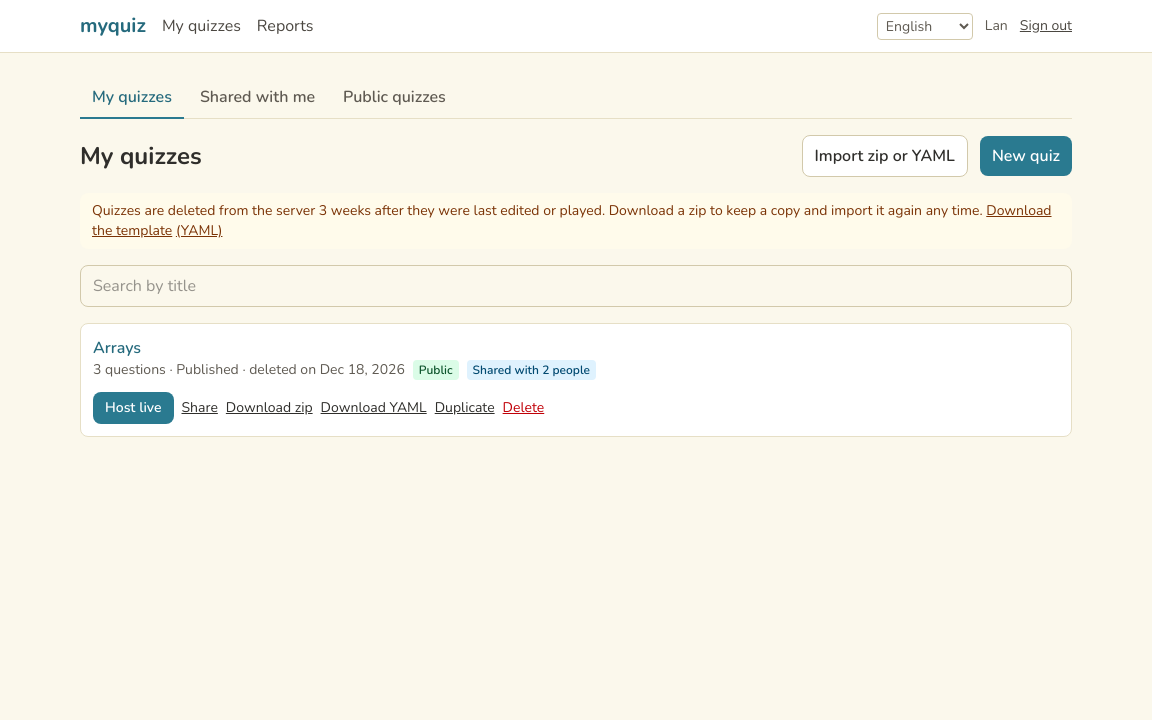
the owner shares a quiz with people and makes it private
This screenshot has width=1152, height=720.
expect the text "Public" is shown: met, box [413, 360, 459, 380]
expect the text "Shared with 2 people" is shown: met, box [467, 360, 596, 380]
Click the button "Share": (200, 408) [182, 398, 218, 418]
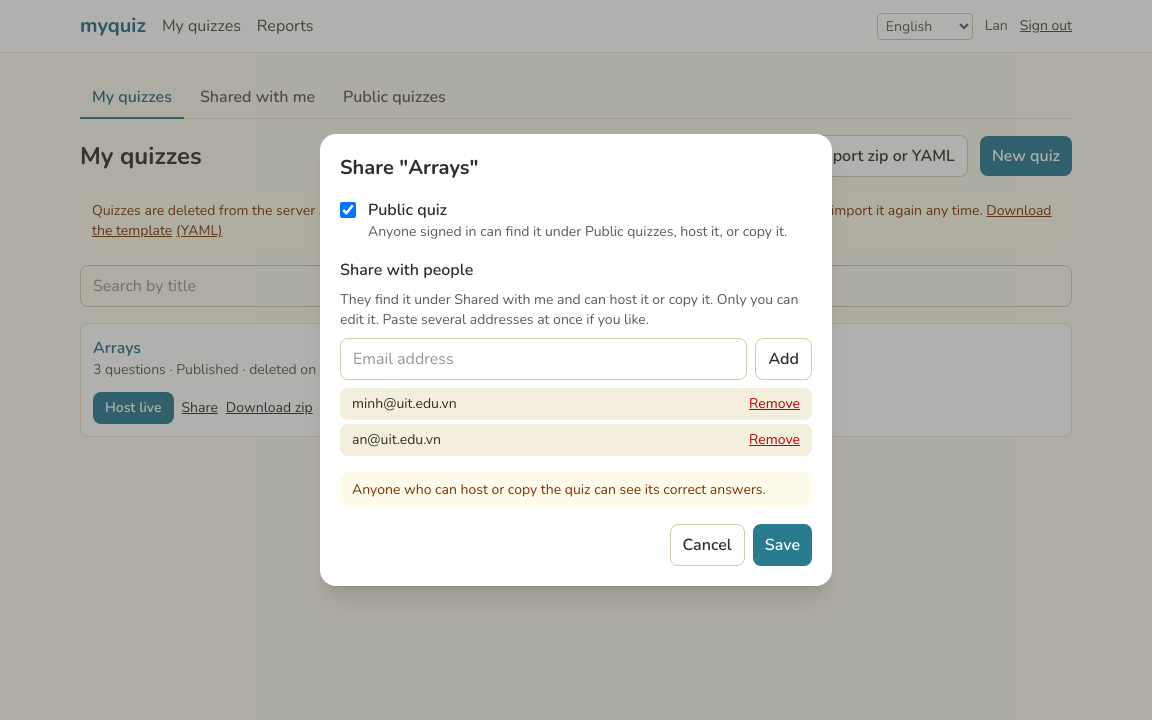
expect the text "minh@uit.edu.vn" is shown: met, box [352, 394, 457, 414]
expect the checkbox is checked: met
Click the checkbox: (348, 210) [340, 202, 356, 218]
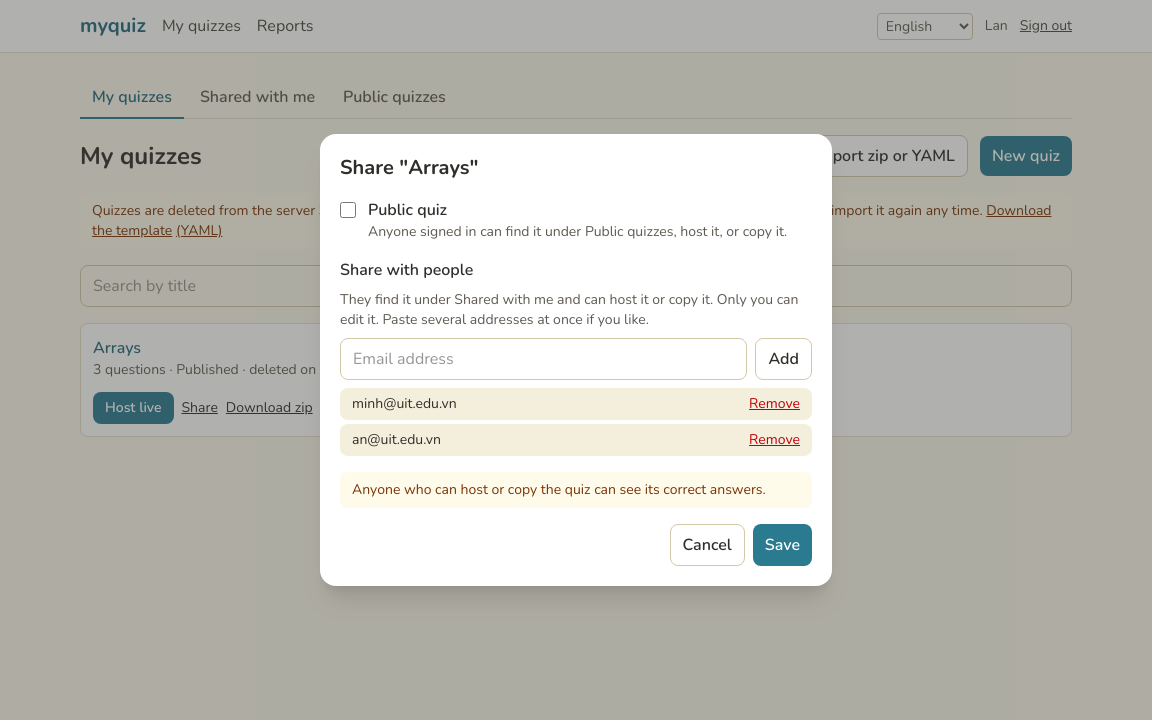
Click the button with aria-label "Remove an@uit.edu.vn": (775, 440) [749, 430, 800, 450]
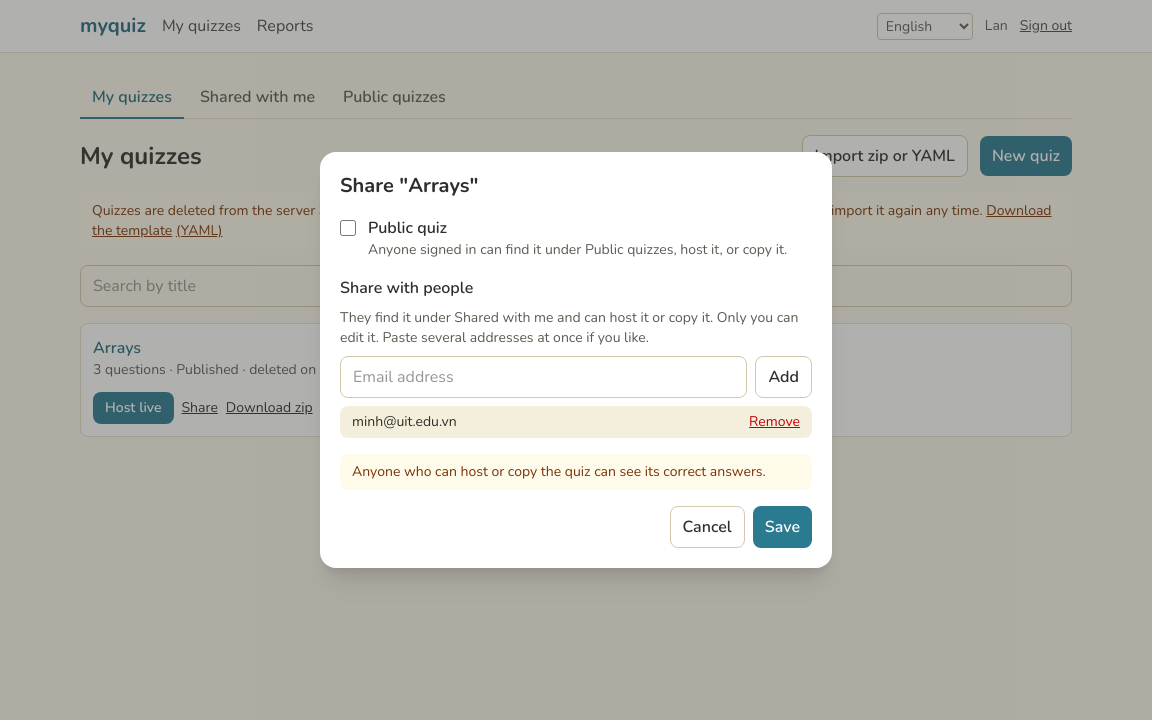
In the field labelled "Email address": (544, 377) [340, 356, 747, 398], type "Binh@uit.edu.vn, minh@uit.edu.vn"
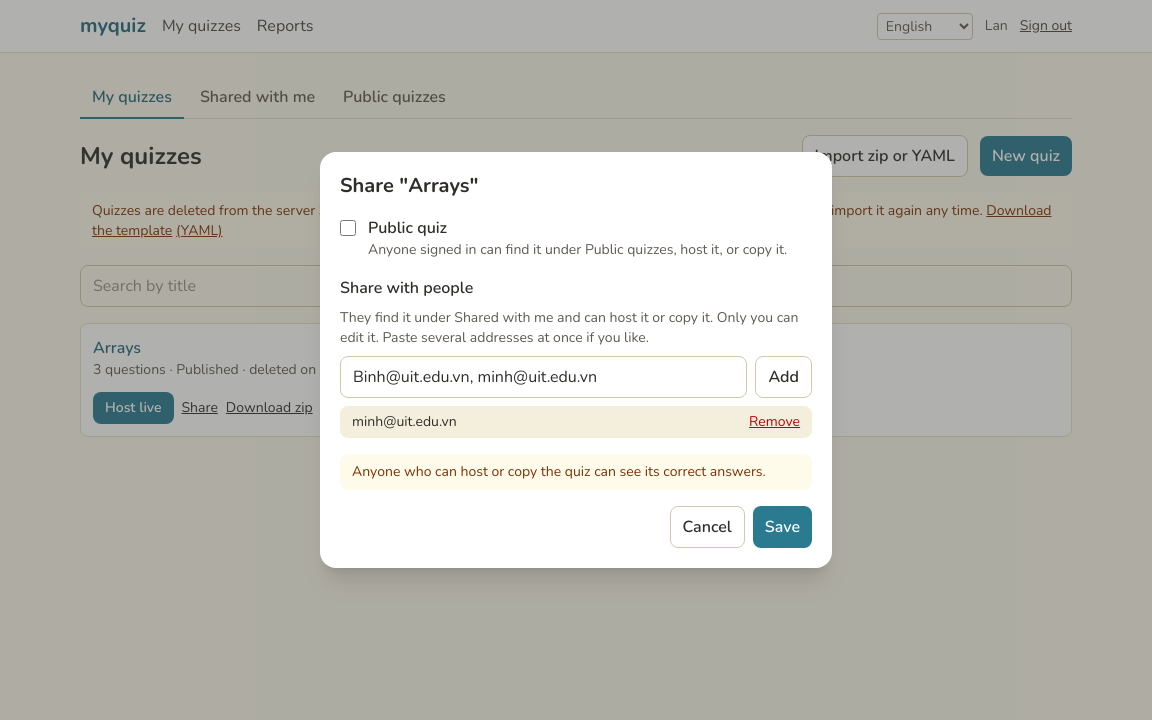
Click the button "Add": (784, 377) [755, 356, 812, 398]
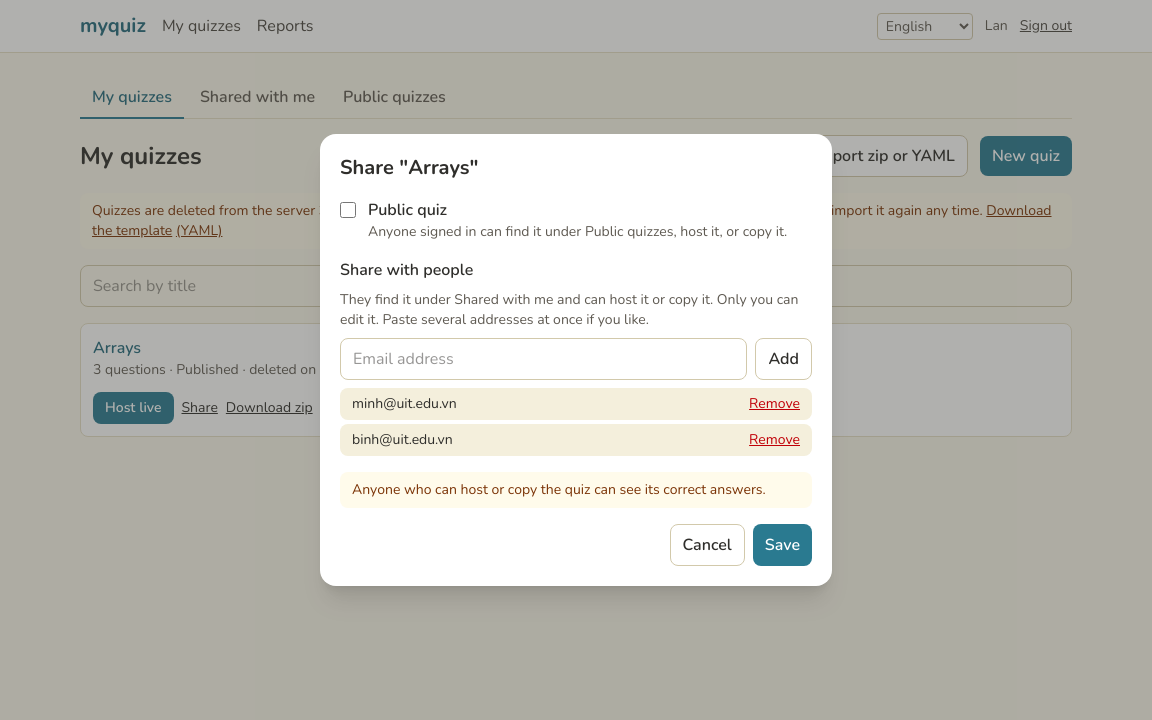
expect the text "binh@uit.edu.vn" is shown: met, box [352, 430, 453, 450]
Click the button "Save": (782, 545) [753, 524, 812, 566]
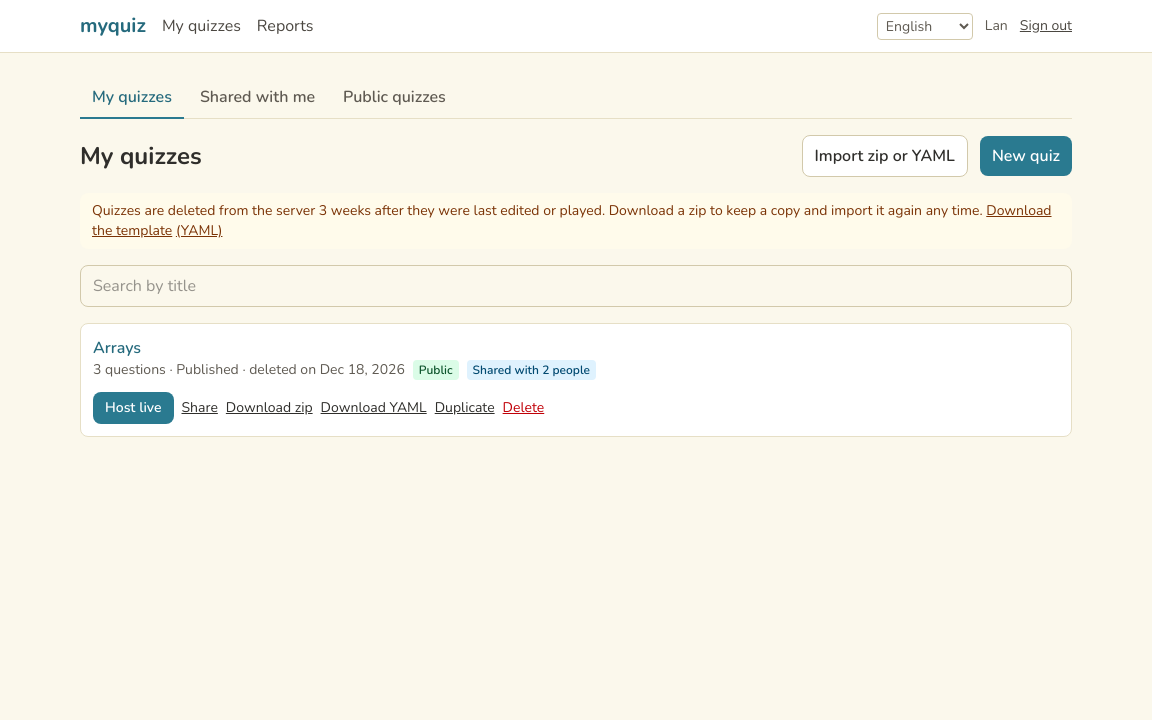
expect the dialog is gone: met
